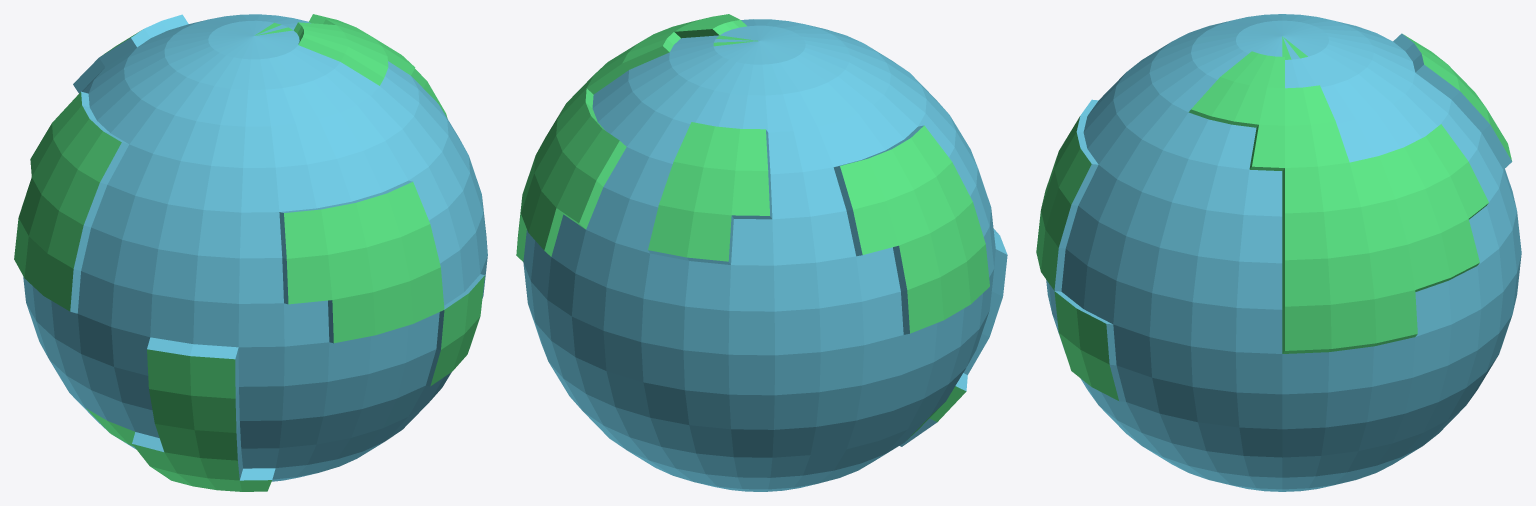
The model's file is RANDOM.fbx.
3 views of the same model, side by side, from view 1: azimuth 30°, elevation 25°; view 2: azimuth 150°, elevation 25°; view 3: azimuth 270°, elevation 25° (orthographic). The views are drawn at different scales.
Visible parts, largest first — view 1: Sphere; view 2: Sphere; view 3: Sphere.
Part boxes in pixels (bbox=[...]): Sphere: bbox=[14, 14, 487, 491]; Sphere: bbox=[516, 14, 1007, 491]; Sphere: bbox=[1036, 14, 1521, 491].
Size of the model in its own units: 206 by 201 by 203.
